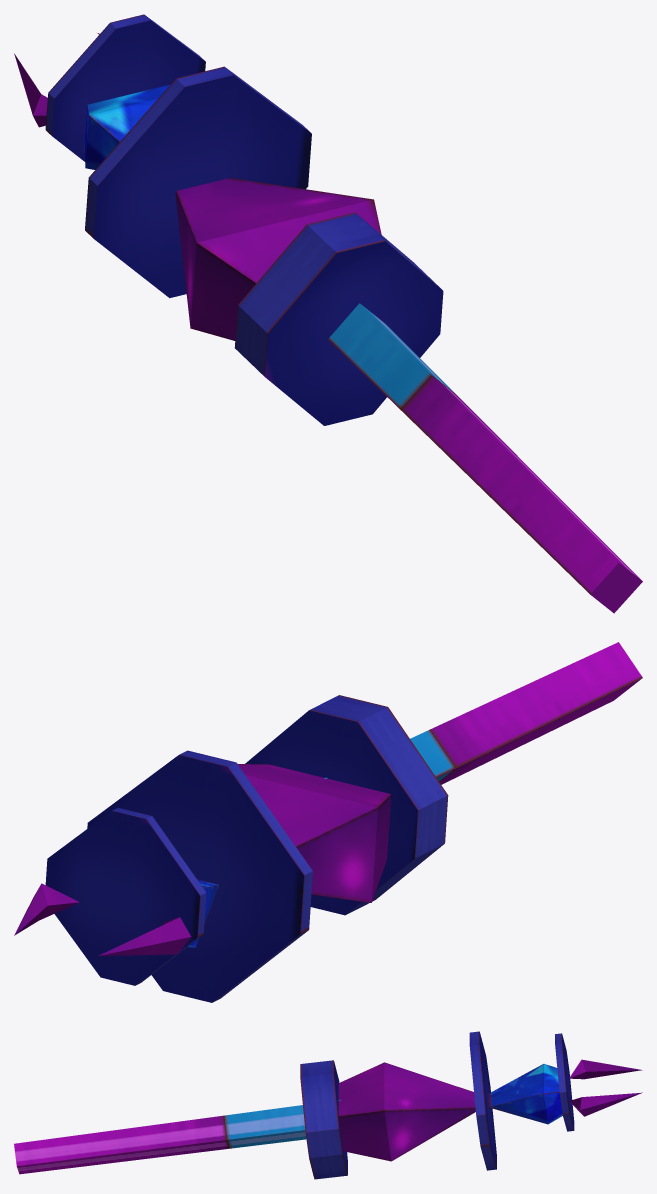
Rendered from staff3-1.FBX.
The picture shows the model from 3 angles, top to bottom: view 1: azimuth 30°, elevation 25°; view 2: azimuth 150°, elevation 25°; view 3: azimuth 270°, elevation 25°; orthographic projection. The views are drawn at different scales.
Parts seen in each view (by area): view 1: Object003; view 2: Object003; view 3: Object003.
Boxes of the visible parts, x1,y1,x2,y2 form: Object003: (14,14,642,613); Object003: (14,642,642,1002); Object003: (14,1031,642,1179).
Bounding box in the file's own units: 27.78 × 29.92 × 126.
